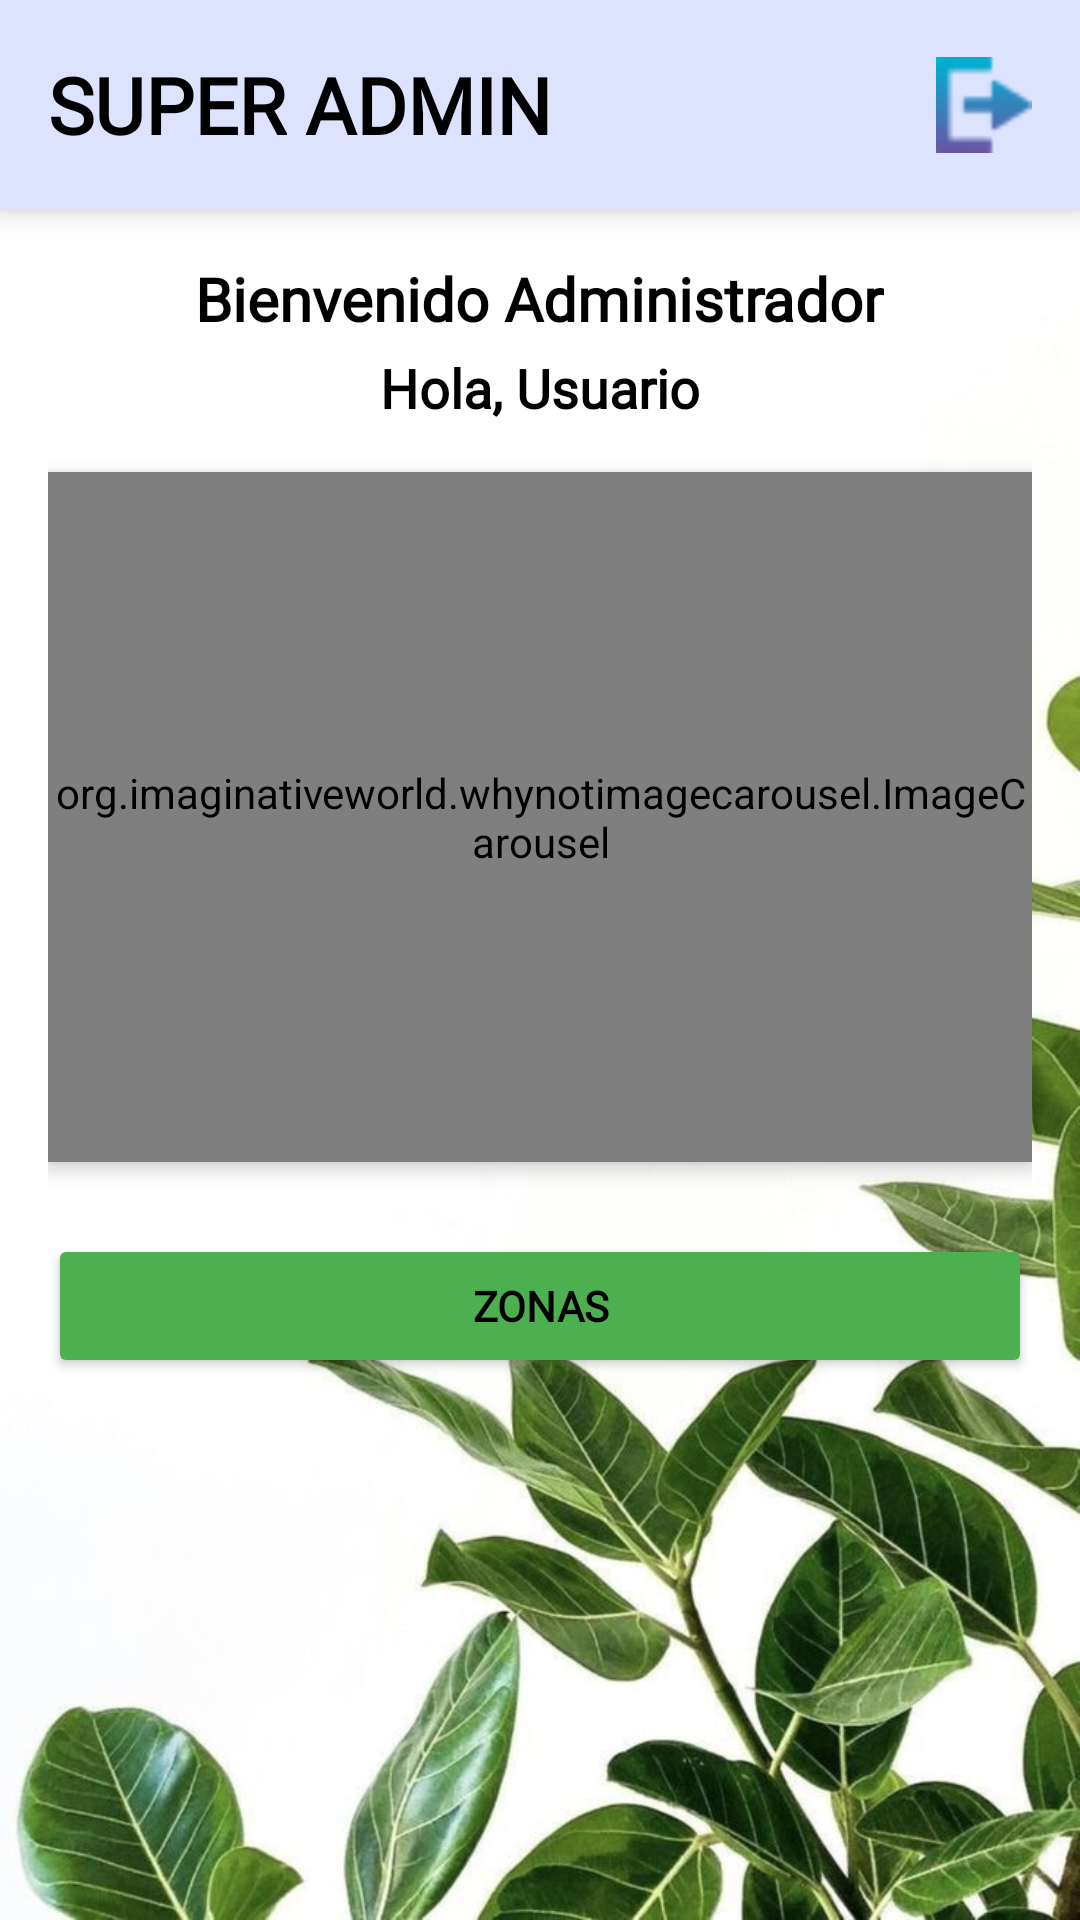

Where icons sit on this 1080x1920 app screen, as {"x1": x1, "y1": y1, "x2": x2, "y2": y2}:
Cerrar sesión: {"x1": 936, "y1": 57, "x2": 1032, "y2": 153}
